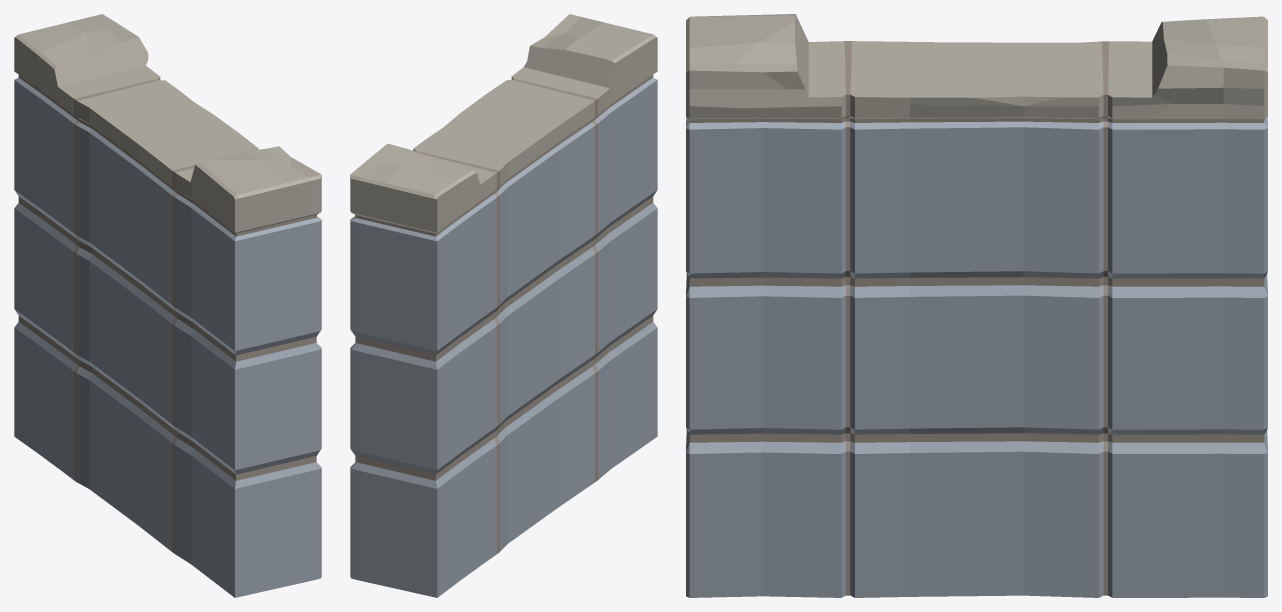
File: SM_SkyIslands_StraightLong_Waterfall.fbx
3 renders of one model, left to right at view 1: azimuth 30°, elevation 25°; view 2: azimuth 150°, elevation 25°; view 3: azimuth 270°, elevation 25°, orthographic. The views are drawn at different scales.
Visible parts, largest first — view 1: SM_SkyIslands_LoweredLip; view 2: SM_SkyIslands_LoweredLip; view 3: SM_SkyIslands_LoweredLip.
Boxes of the visible parts, x1,y1,x2,y2 form: SM_SkyIslands_LoweredLip: [14, 14, 321, 597]; SM_SkyIslands_LoweredLip: [350, 14, 657, 597]; SM_SkyIslands_LoweredLip: [686, 14, 1267, 597].
Bounding box in the file's own units: 484 × 2020 × 2000.
